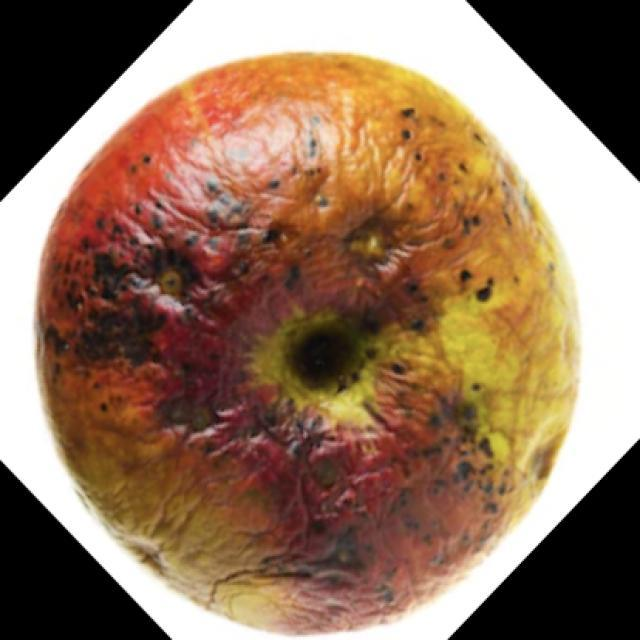Rotten: (43, 60, 567, 602)
